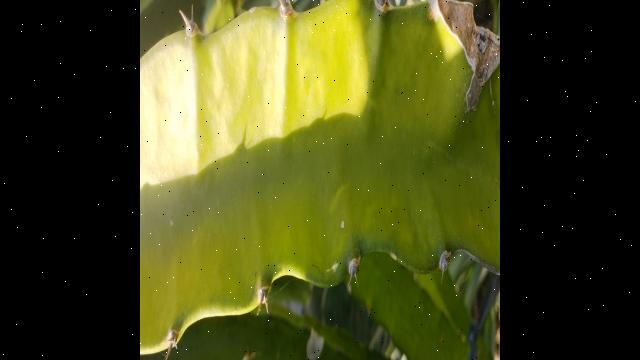stemcanker: (325, 254, 345, 277), (334, 212, 352, 233)
